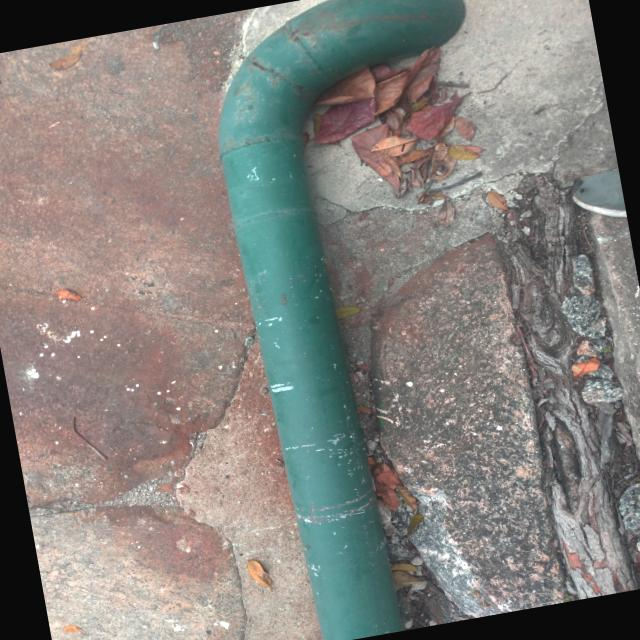gas: (218, 0, 468, 640)
